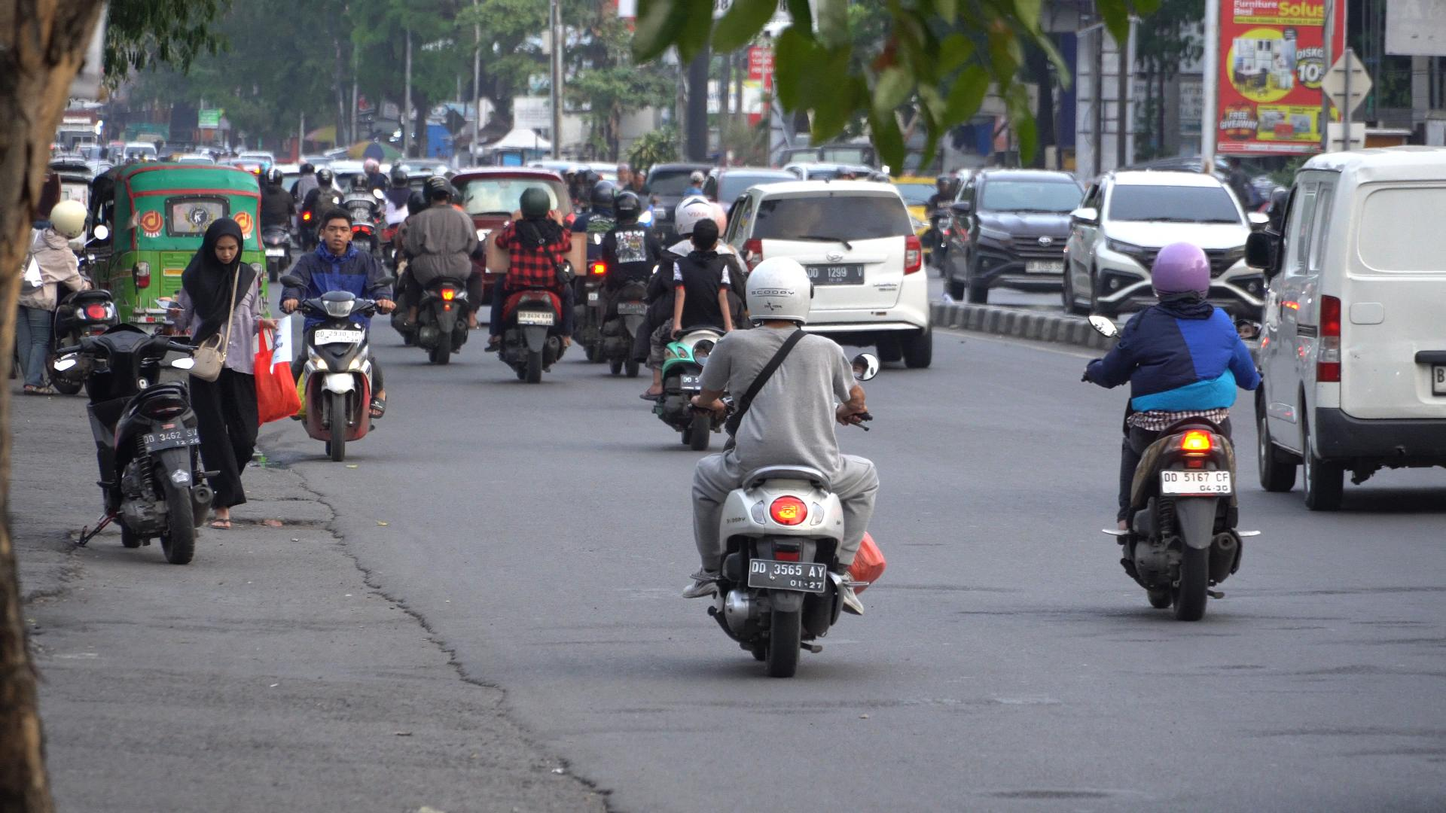number-plate: (316, 324, 367, 345)
